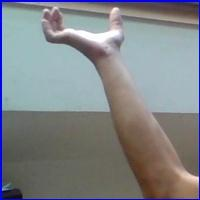space: (38, 4, 132, 68)
